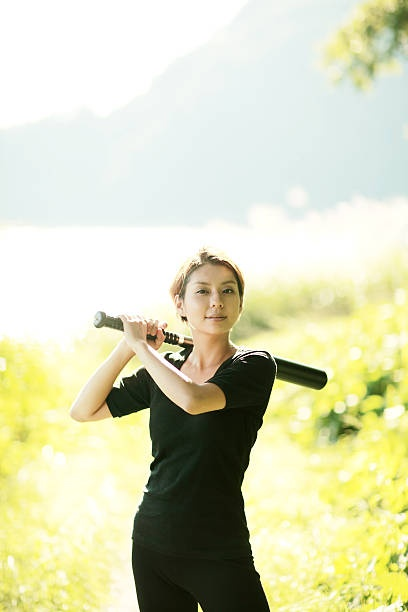bita: (240, 339, 329, 391), (93, 310, 188, 354)
